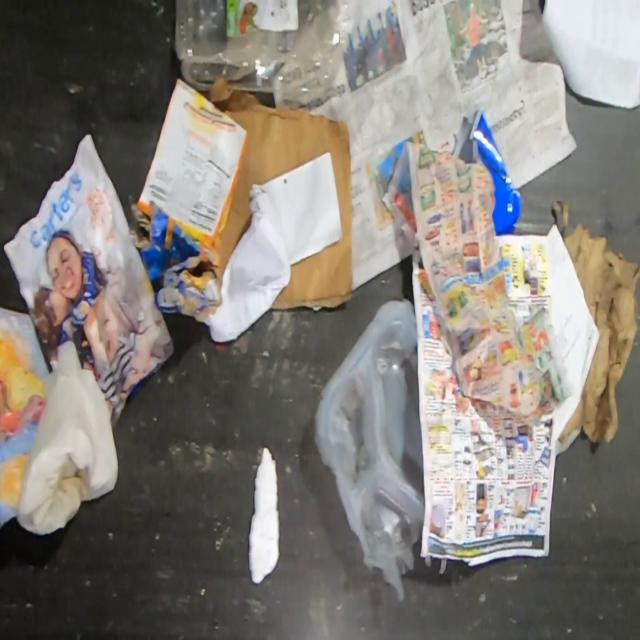cardboard: (197, 74, 358, 310), (551, 199, 640, 447), (134, 77, 246, 249), (124, 198, 224, 324)
rigid_plastic: (313, 298, 426, 601), (174, 0, 350, 105), (451, 105, 522, 236)
